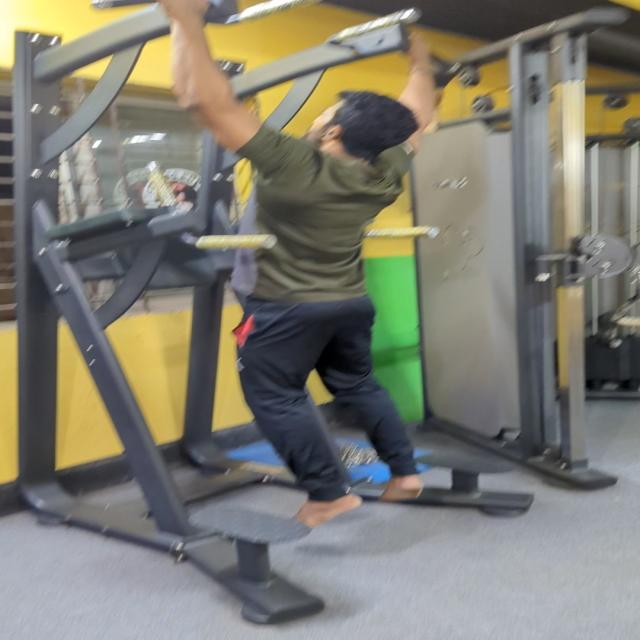Normal_PullUps: (111, 4, 533, 538)
